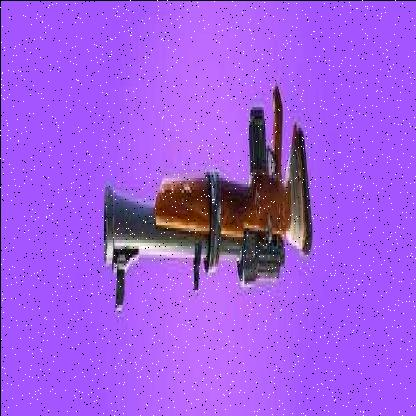rifle: (91, 47, 327, 330)
